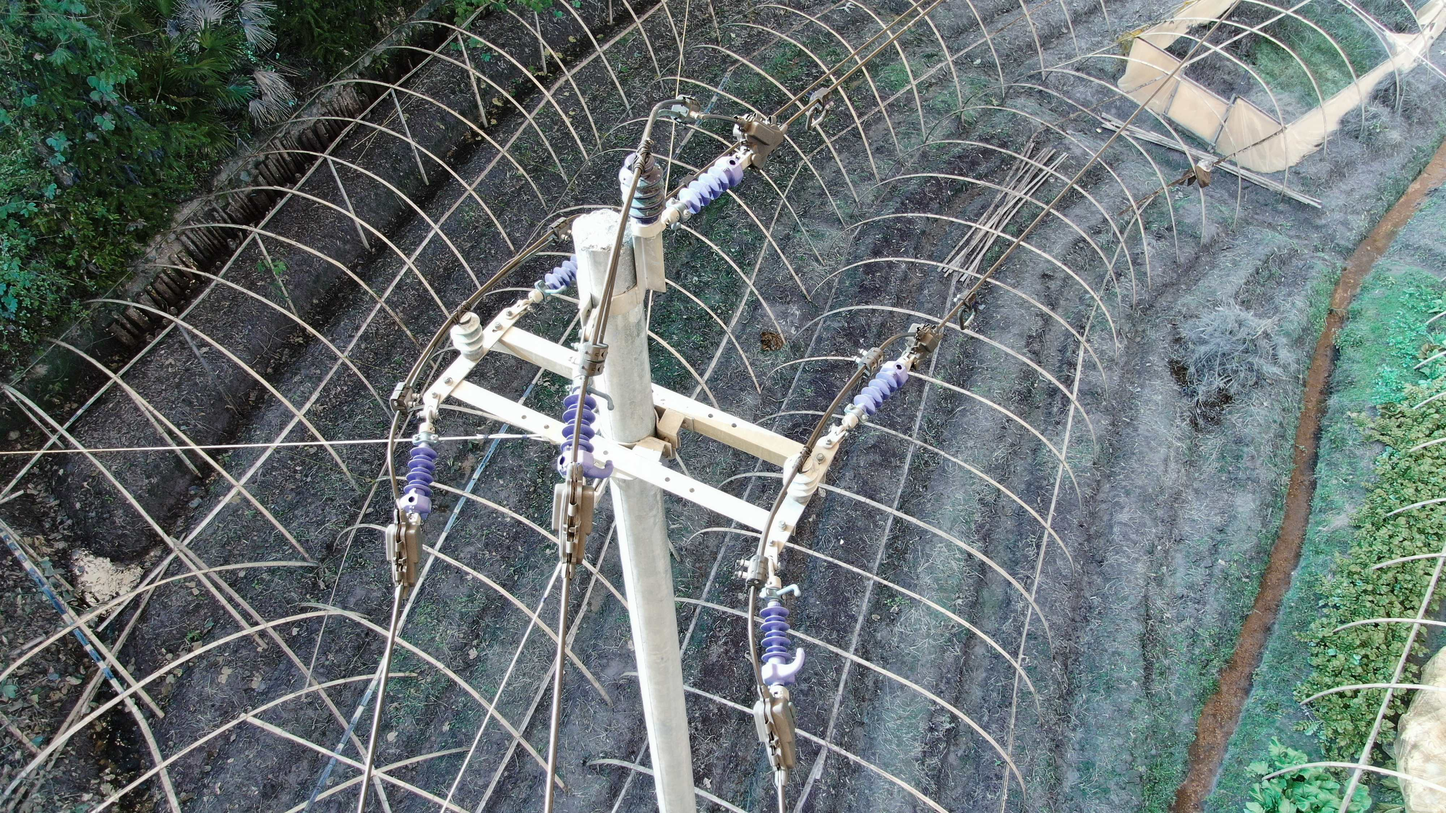severe_soiling_no_discharge_whole: (618, 148, 673, 240), (781, 449, 822, 504), (448, 306, 487, 363)
